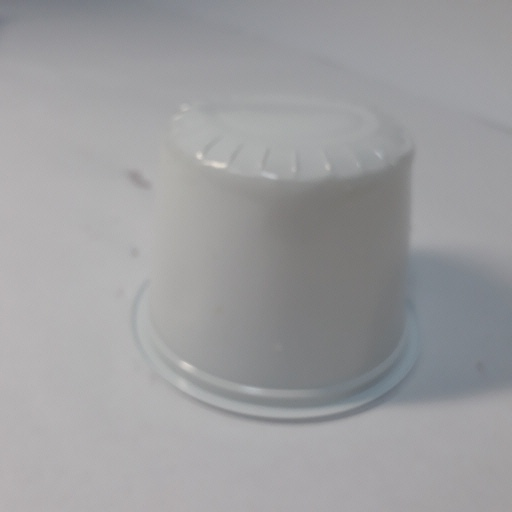Plastic_5: (128, 92, 422, 428)
